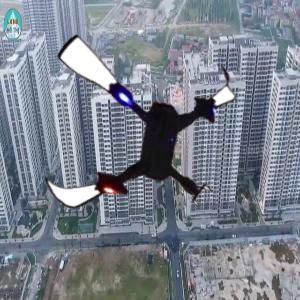drone: (22, 15, 244, 237)
